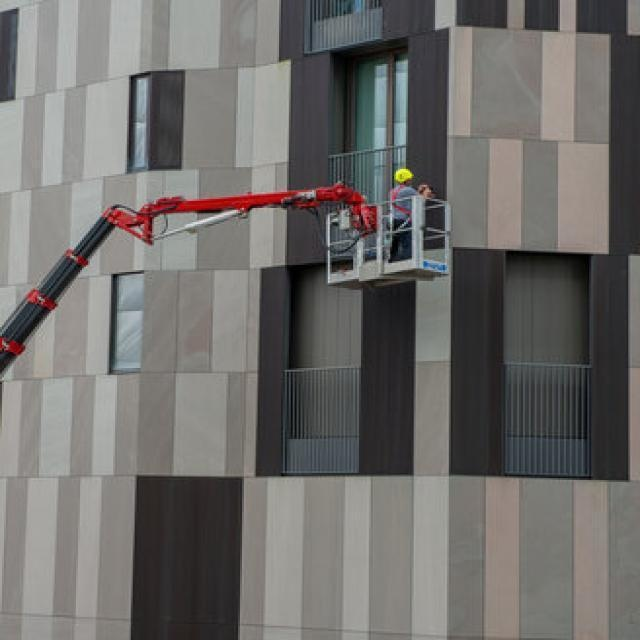Arnes_seguridad: (390, 186, 421, 230)
